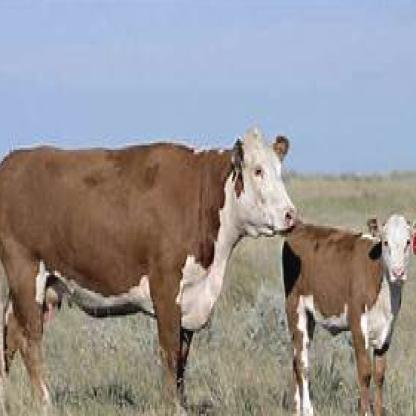cow: (0, 127, 300, 400), (281, 210, 414, 414)
